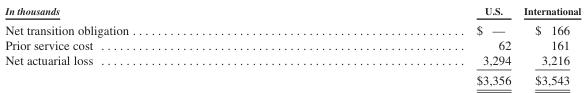table: (4, 4, 580, 87)
table column: (4, 4, 301, 87), (301, 4, 516, 87), (516, 4, 580, 87)
table column header: (4, 4, 580, 19)
table row: (4, 19, 580, 37), (4, 52, 580, 70), (4, 70, 580, 87), (4, 4, 580, 19), (4, 37, 580, 52)
